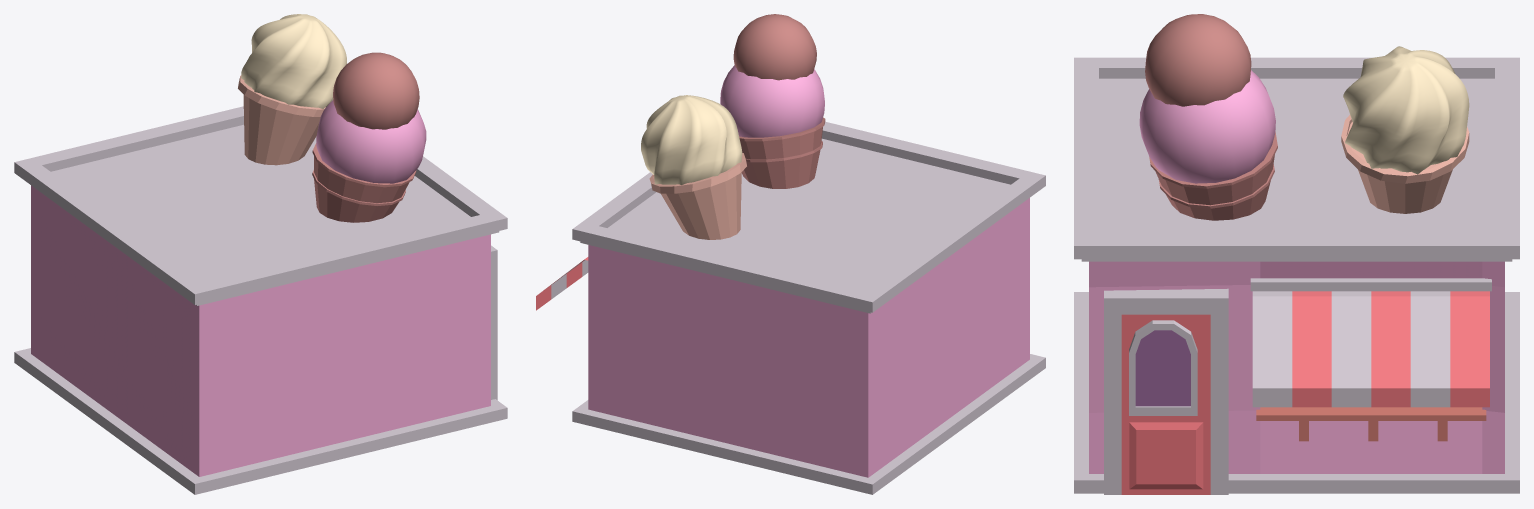
File: Dukkan.fbx
3 renders of one model, left to right at view 1: azimuth 30°, elevation 25°; view 2: azimuth 150°, elevation 25°; view 3: azimuth 270°, elevation 25°, orthographic. The views are drawn at different scales.
Visible parts, largest first — view 1: Dukkan; view 2: Dukkan; view 3: Dukkan.
Part boxes in pixels (x1,y1,x2,y2): Dukkan: (14, 14, 507, 494); Dukkan: (536, 14, 1045, 494); Dukkan: (1074, 14, 1519, 494).
Size of the model in its own units: 1740 by 1582 by 1500.
